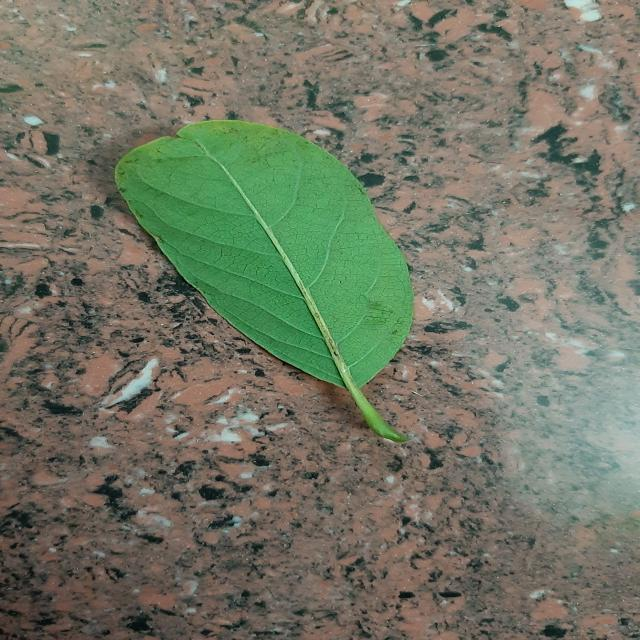seethaphala: (117, 120, 412, 442), (98, 106, 108, 111)
